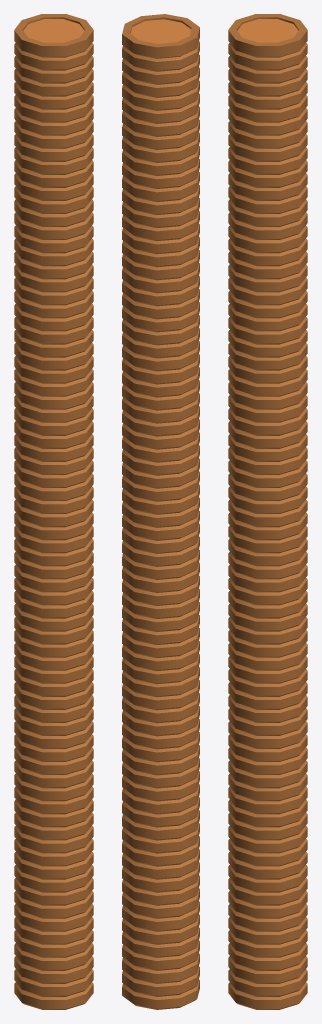
File: Coin_Tower_19.fbx
The picture shows the model from 3 angles, left to right: view 1: azimuth 90°, elevation 25°; view 2: azimuth 210°, elevation 25°; view 3: azimuth 270°, elevation 25°; orthographic projection.
Visible parts, largest first — view 1: Coin_Tower_19; view 2: Coin_Tower_19; view 3: Coin_Tower_19.
Boxes of the visible parts, box(x1,y1,x2,y2) form: Coin_Tower_19: box(14, 14, 93, 1009); Coin_Tower_19: box(122, 14, 199, 1009); Coin_Tower_19: box(228, 14, 307, 1009).
Size of the model in its own units: 0.0413 by 0.5814 by 0.0435.
